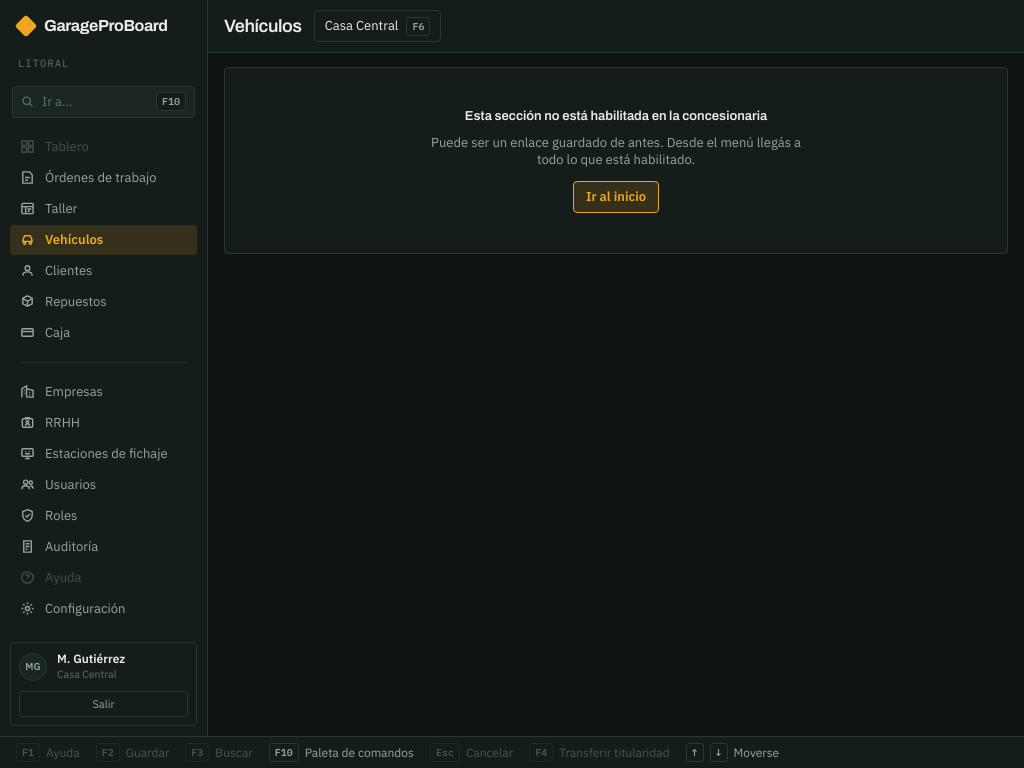
Test: al salir › va al login sin recordar dónde estaba el anterior
Expected: the heading "Vehículos" is shown, [224,12,302,40]
Click the button "Salir": click(104, 704) [19,690,188,717]
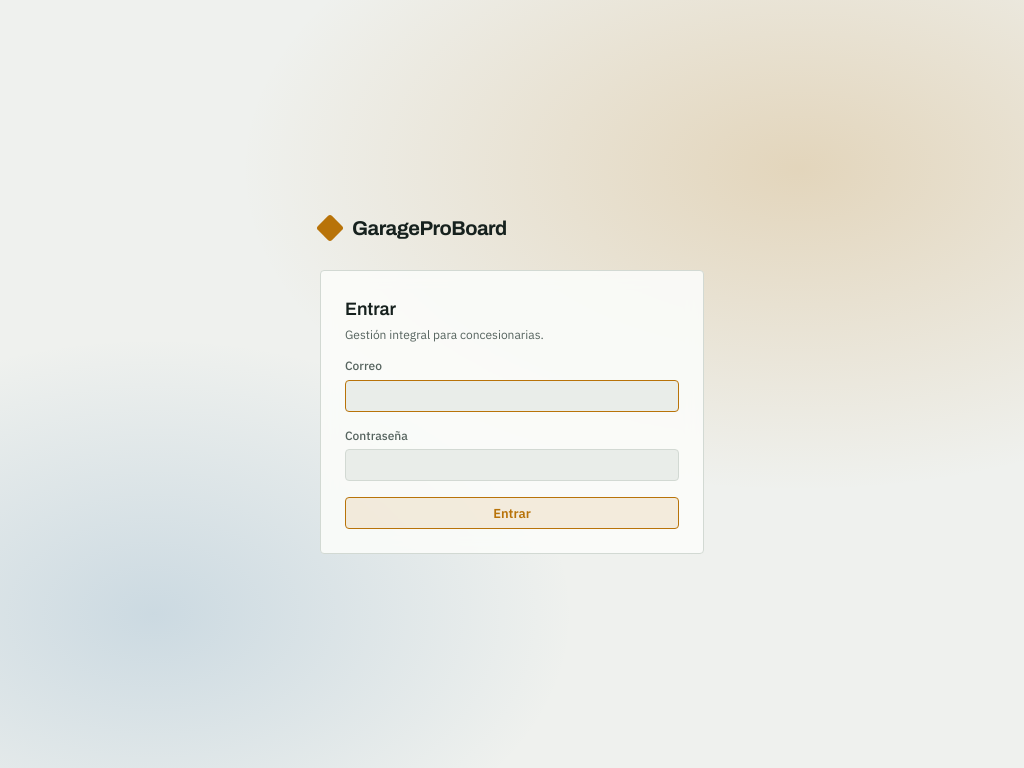
Expected: the field labelled "Correo" is shown, [345,380,679,412]
